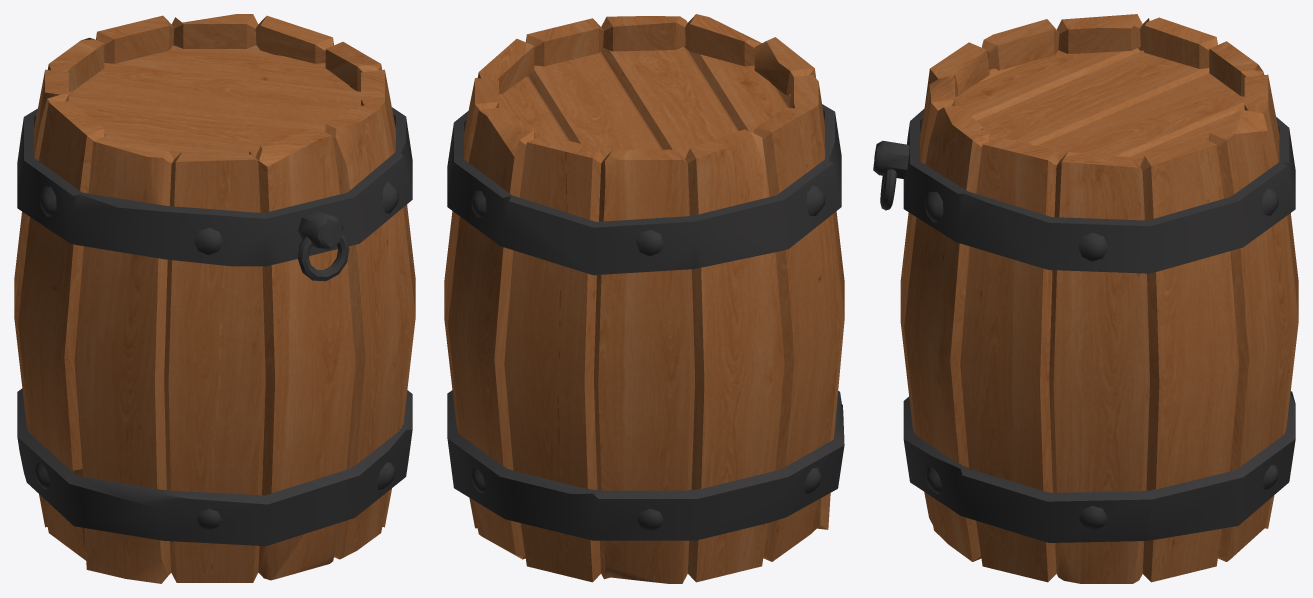
File: vertical_barrel.fbx
3 renders of one model, left to right at view 1: azimuth 30°, elevation 25°; view 2: azimuth 150°, elevation 25°; view 3: azimuth 270°, elevation 25°, orthographic.
Visible parts, largest first — view 1: barrel; view 2: barrel; view 3: barrel.
Boxes of the visible parts, x1,y1,x2,y2 form: barrel: (14, 14, 415, 583); barrel: (444, 14, 844, 583); barrel: (873, 14, 1298, 583).
Bounding box in the file's own units: 36.33 × 42.59 × 38.42.
